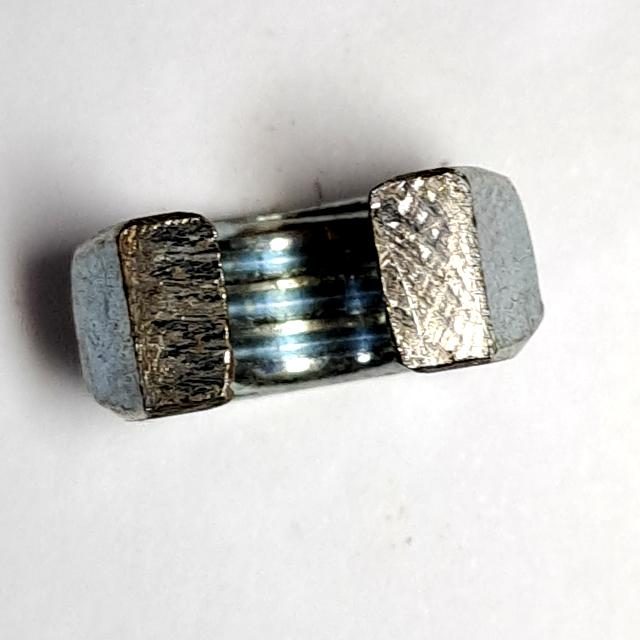Side-Fracture: (62, 156, 552, 432)
